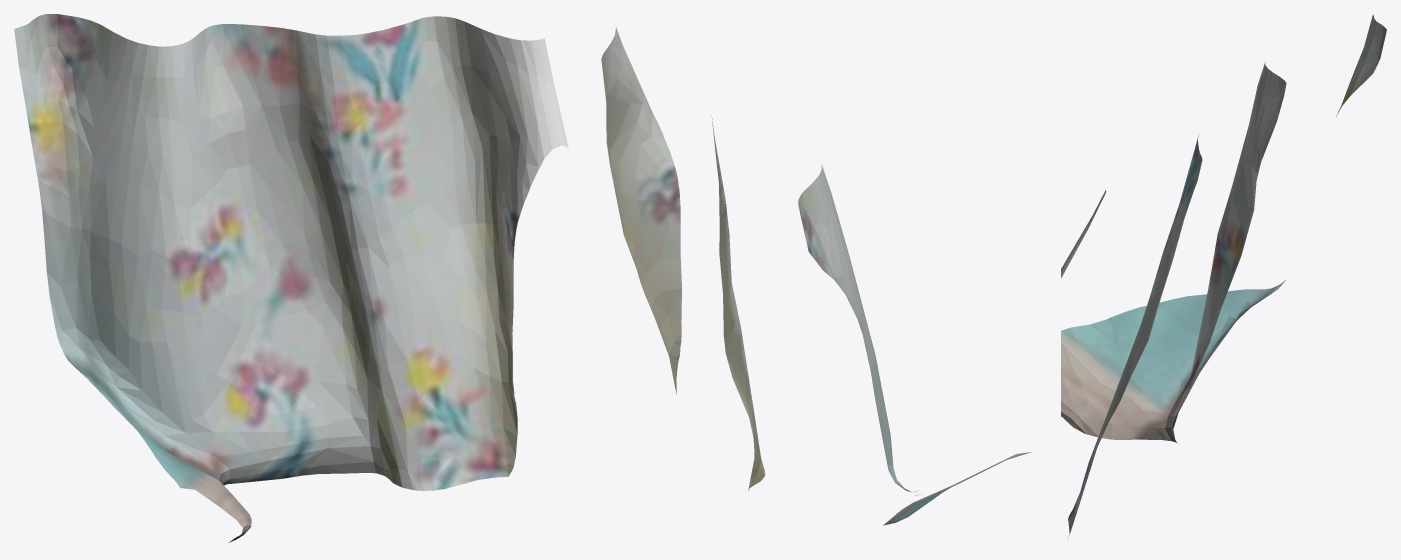
3 renders of one model, left to right at view 1: azimuth 30°, elevation 25°; view 2: azimuth 150°, elevation 25°; view 3: azimuth 270°, elevation 25°, orthographic. The views are drawn at different scales.
Bounding box in the file's own units: 85.74 × 85.74 × 66.33.
1 material, 1 textured.
